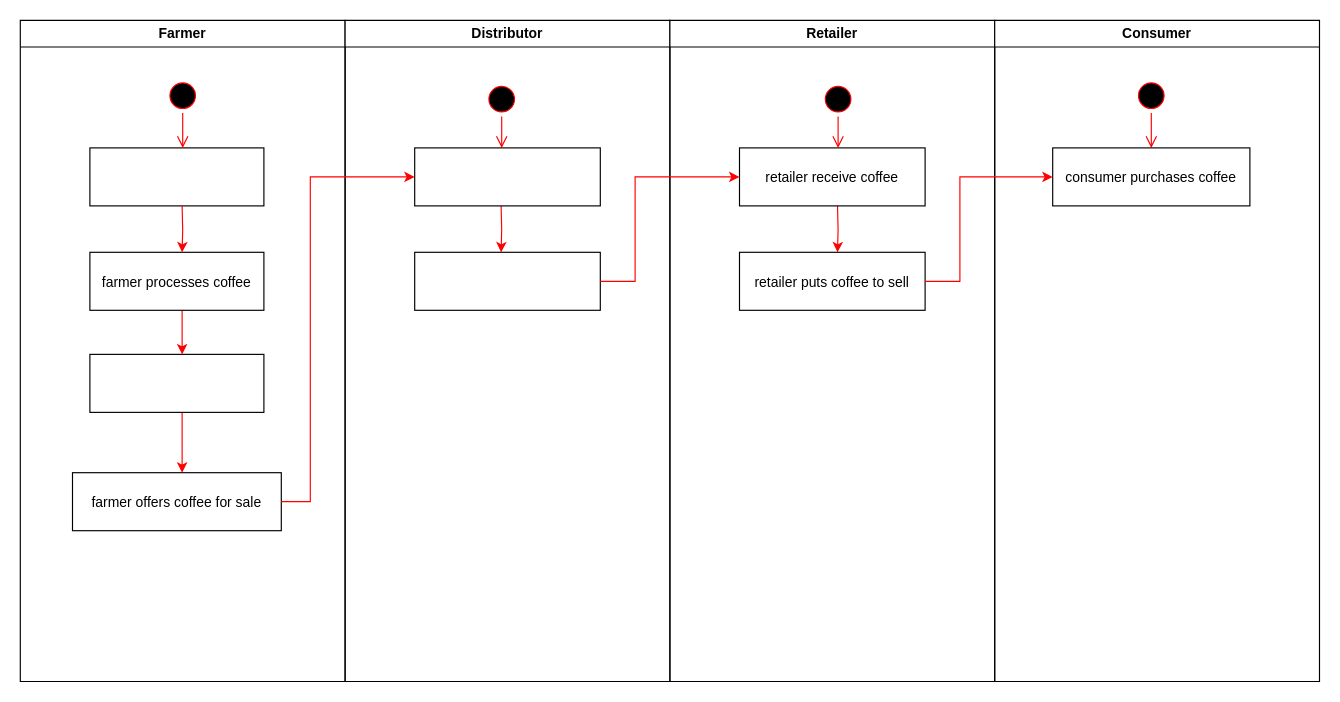
This 1340x702 diagram has some shape labels left out. Here are the shapes that lost their labels. From the top down, the centre of each, then its label:
At [176,176]: "farmer harvests coffee".
At [507,176]: "distributor buys coffee".
At [507,280]: "distributor ships coffee".
At [176,382]: "farmer packs coffee".
